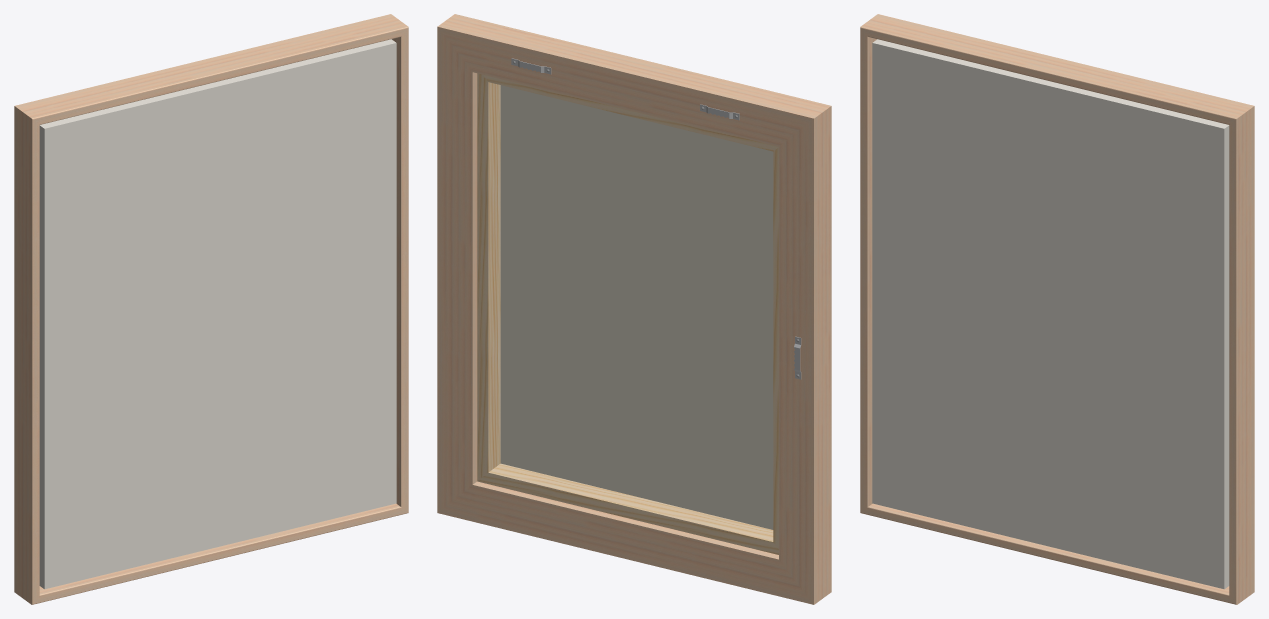
The model's file is decoded-from-delivery.glb.
3 views of the same model, side by side, from view 1: azimuth 30°, elevation 25°; view 2: azimuth 150°, elevation 25°; view 3: azimuth 330°, elevation 25° (orthographic).
Parts seen in each view (by area): view 1: Canvas artwork front, Tray approved profile 0; view 2: Canvas linen reverse, Tray approved profile 0, Stretcher top, Sawtooth hanger 0; view 3: Canvas artwork front, Tray approved profile 0.
Part boxes in pixels (x1,y1,x2,y2): Canvas artwork front: (39,39,396,589); Tray approved profile 0: (14,14,408,604); Canvas linen reverse: (500,85,773,529); Tray approved profile 0: (437,14,831,604); Stretcher top: (477,73,778,554); Sawtooth hanger 0: (511,58,801,379); Canvas artwork front: (872,39,1229,589); Tray approved profile 0: (860,14,1254,604).
Bounding box in the file's own units: 0.428 × 0.528 × 0.0374.
7 materials, 3 textured.
